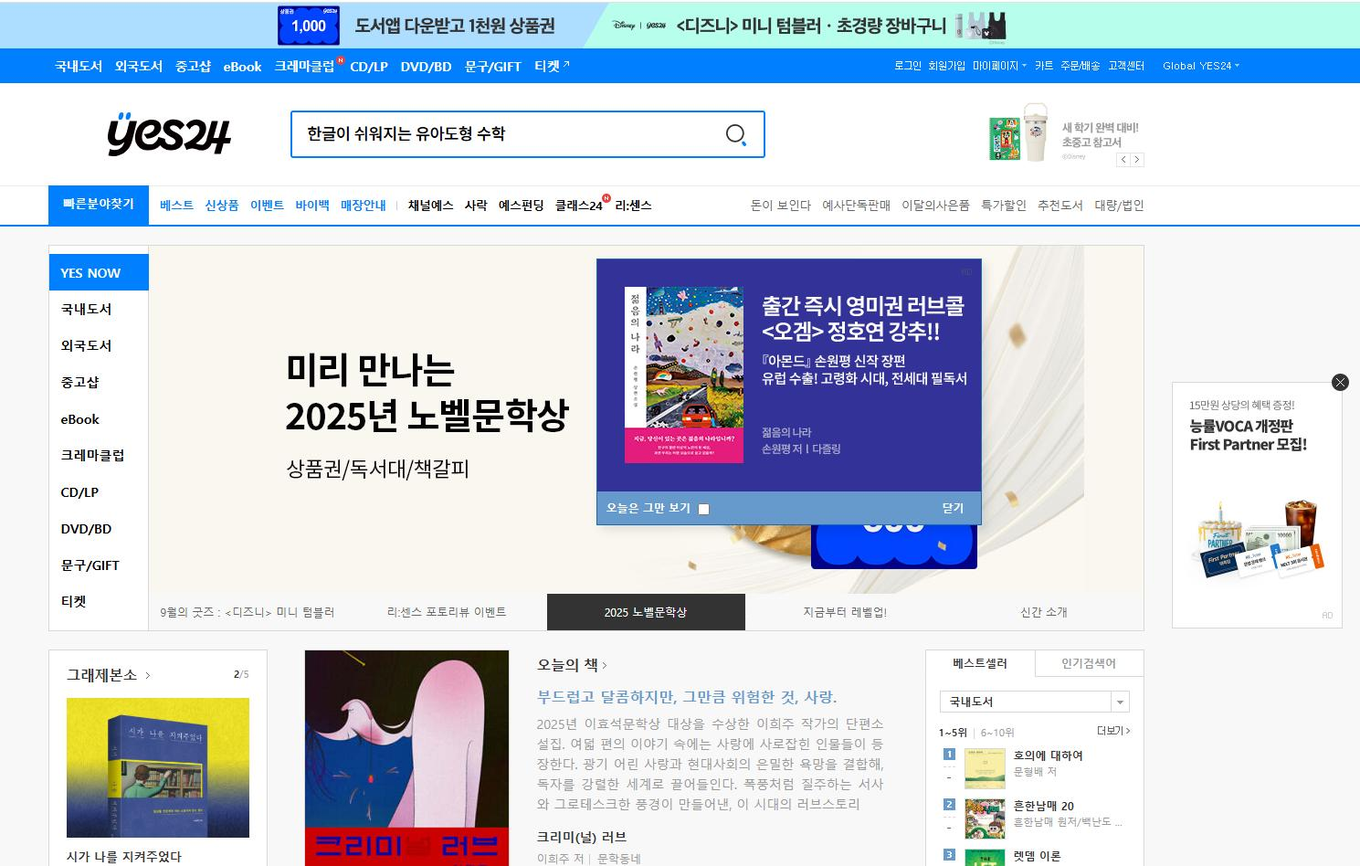button: (547, 596, 739, 629), (936, 594, 1122, 628), (759, 592, 925, 629), (369, 602, 518, 637), (51, 184, 142, 222), (56, 256, 147, 287), (930, 653, 1039, 677), (54, 296, 146, 322), (50, 587, 111, 625), (60, 408, 141, 436), (57, 335, 147, 360), (55, 523, 128, 552), (1044, 654, 1140, 676), (748, 191, 814, 221), (55, 553, 130, 577), (48, 450, 137, 470), (54, 372, 137, 393), (47, 52, 110, 77), (61, 489, 125, 513), (1083, 192, 1151, 214), (826, 196, 896, 217), (390, 54, 461, 74), (976, 57, 1035, 80), (468, 60, 532, 81), (341, 194, 398, 217), (155, 185, 192, 219), (274, 55, 346, 72), (898, 200, 972, 215), (602, 193, 651, 213), (560, 189, 599, 214), (222, 56, 273, 74), (117, 56, 162, 76), (346, 57, 391, 77), (168, 57, 224, 73), (1105, 57, 1157, 74), (248, 194, 282, 218), (501, 198, 543, 217), (896, 52, 932, 73), (1029, 52, 1061, 73), (206, 194, 239, 214), (459, 197, 492, 217), (938, 60, 972, 78), (1065, 57, 1096, 76), (415, 194, 444, 214), (986, 198, 1032, 210), (543, 63, 574, 80), (287, 204, 326, 215), (1046, 204, 1070, 215)
input_field: (294, 110, 762, 157)
popup: (588, 256, 983, 526), (1170, 381, 1345, 626)
